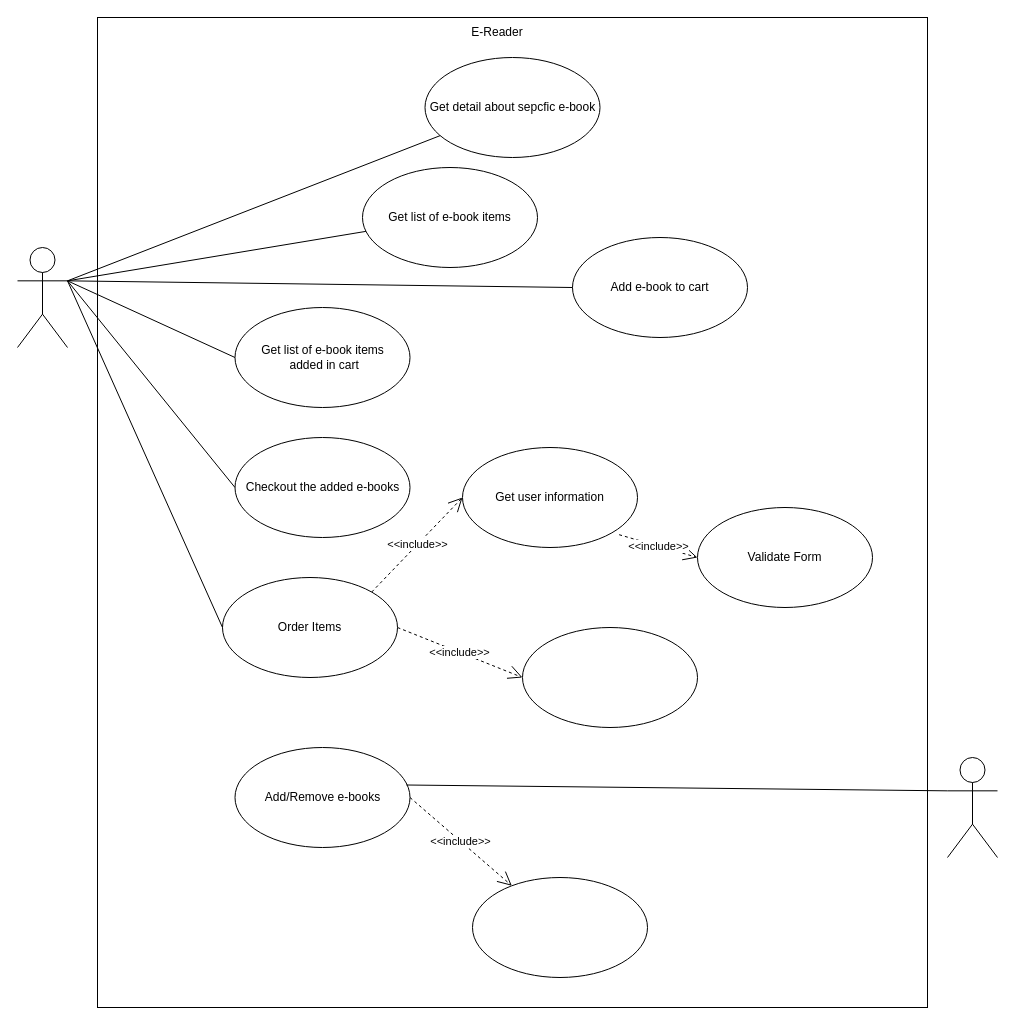
Some shapes in this 1015 by 1025 pixel diagram are drawn without their labels. Each missing label, with the centre of its shape:
"Admin" goes at [972,807].
"Authenticate" goes at [560,927].
"Pay using Khalti" goes at [610,677].
"User" goes at [42,297].
